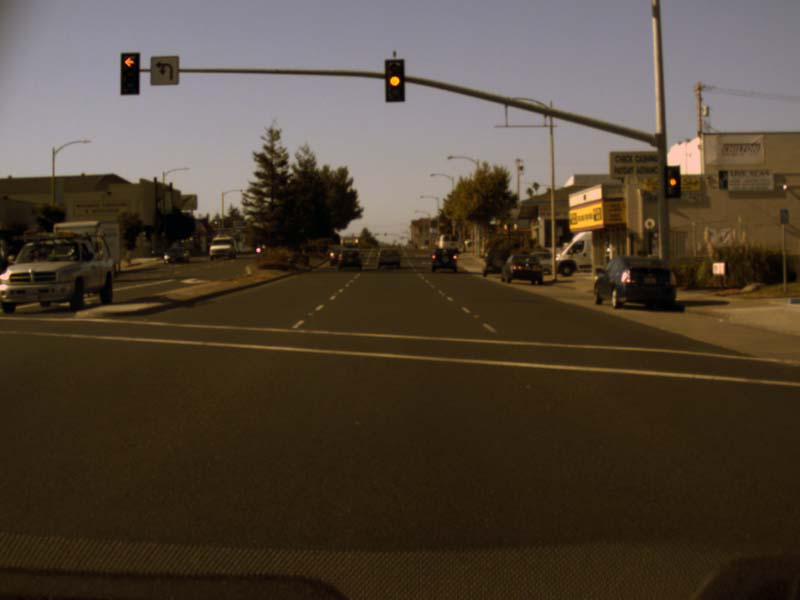Red: (120, 52, 138, 93)
Yellow: (385, 59, 403, 102), (665, 166, 680, 198)
